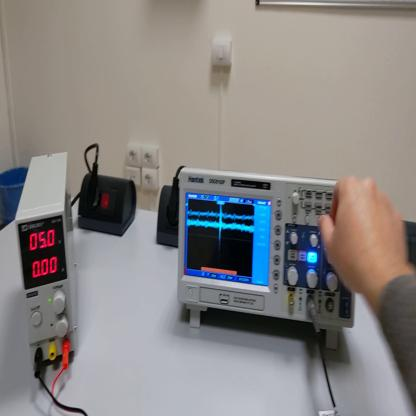hand: (320, 173, 408, 299)
oscilloscope: (181, 167, 368, 356)
power supply: (13, 150, 77, 364)
socket: (78, 176, 139, 240), (156, 183, 181, 250)
